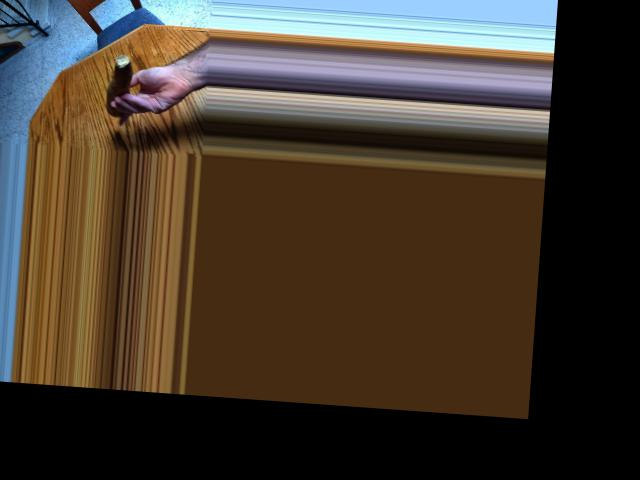sweet_potato: (102, 56, 140, 110)
